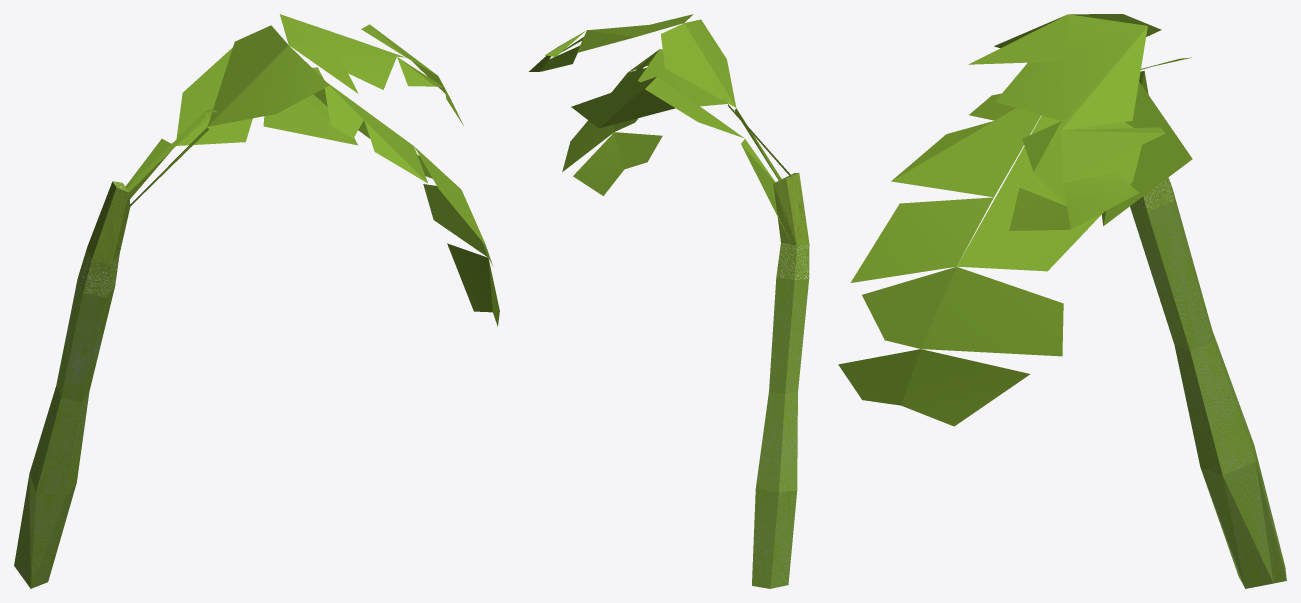
File: Tree_Bamboo_11.fbx
3 views of the same model, side by side, from view 1: azimuth 30°, elevation 25°; view 2: azimuth 150°, elevation 25°; view 3: azimuth 270°, elevation 25° (orthographic). The views are drawn at different scales.
Parts seen in each view (by area): view 1: Model; view 2: Model; view 3: Model.
Boxes of the visible parts, x1,y1,x2,y2 form: Model: [14, 14, 499, 588]; Model: [529, 14, 809, 588]; Model: [838, 14, 1286, 588].
Bounding box in the file's own units: 207 × 307 × 184.
